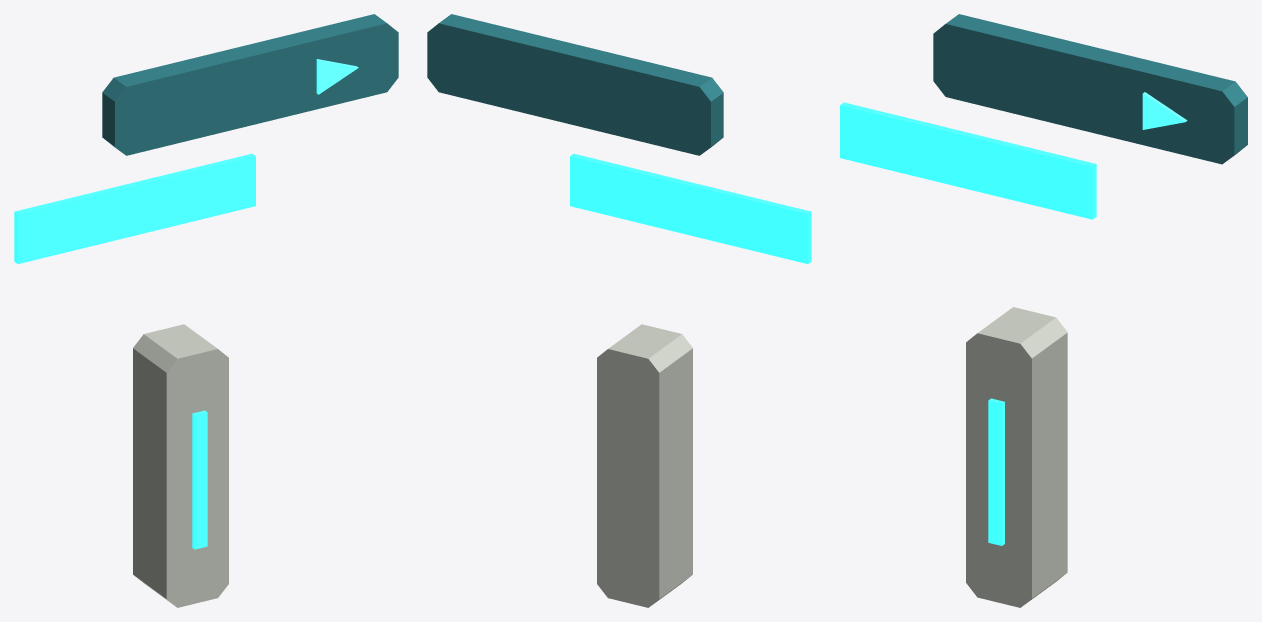
File: City_Wayfinding.glb
3 views of the same model, side by side, from view 1: azimuth 30°, elevation 25°; view 2: azimuth 150°, elevation 25°; view 3: azimuth 330°, elevation 25° (orthographic). The views are drawn at different scales.
Visible parts, largest first — view 1: City_Wayfinding_SignBoards, City_Wayfinding_Mast, City_Wayfinding_Arrows; view 2: City_Wayfinding_SignBoards, City_Wayfinding_Mast; view 3: City_Wayfinding_SignBoards, City_Wayfinding_Mast, City_Wayfinding_Arrows.
Boxes of the visible parts, x1,y1,x2,y2 form: City_Wayfinding_SignBoards: (14,14,398,263); City_Wayfinding_Mast: (133,324,228,607); City_Wayfinding_Arrows: (316,59,358,94); City_Wayfinding_SignBoards: (427,14,811,263); City_Wayfinding_Mast: (597,324,692,607); City_Wayfinding_SignBoards: (840,14,1247,219); City_Wayfinding_Mast: (966,307,1067,607); City_Wayfinding_Arrows: (1142,92,1187,129).
Size of the model in its own units: 2.05 by 2.73 by 0.3525.
